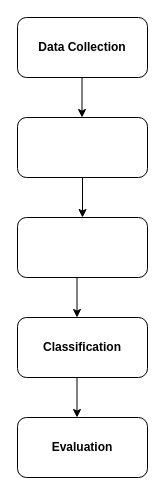
Image size: 165x495. Some labels were removed from this diagram. Each missing label, with the centre of its shape:
Data Preprocessing: (x=82, y=147)
Feature Extraction: (x=82, y=247)
